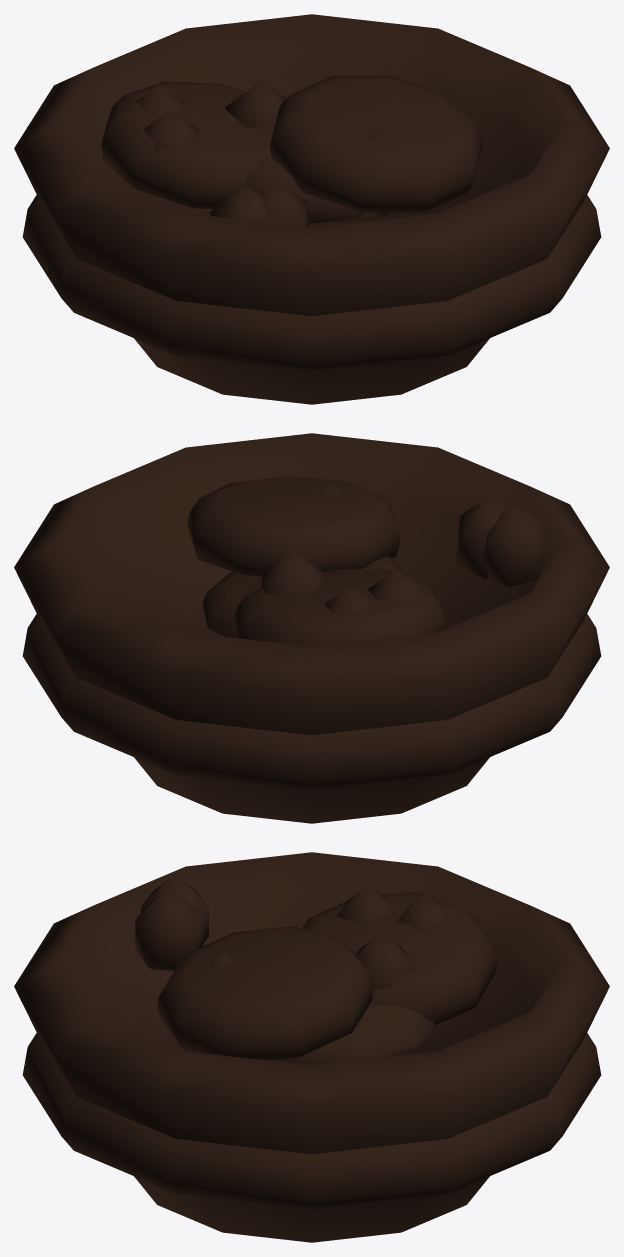
Rendered from basket.glb.
3 renders of one model, top to bottom at view 1: azimuth 30°, elevation 25°; view 2: azimuth 150°, elevation 25°; view 3: azimuth 270°, elevation 25°, orthographic.
Parts seen in each view (by area): view 1: basket_outline; view 2: basket_outline; view 3: basket_outline.
Part boxes in pixels (left/top/right/bottom): basket_outline: left=14, top=14, right=609, bottom=404; basket_outline: left=14, top=433, right=609, bottom=823; basket_outline: left=14, top=852, right=609, bottom=1242.
Size of the model in its own units: 0.7583 by 0.3229 by 0.7583.
